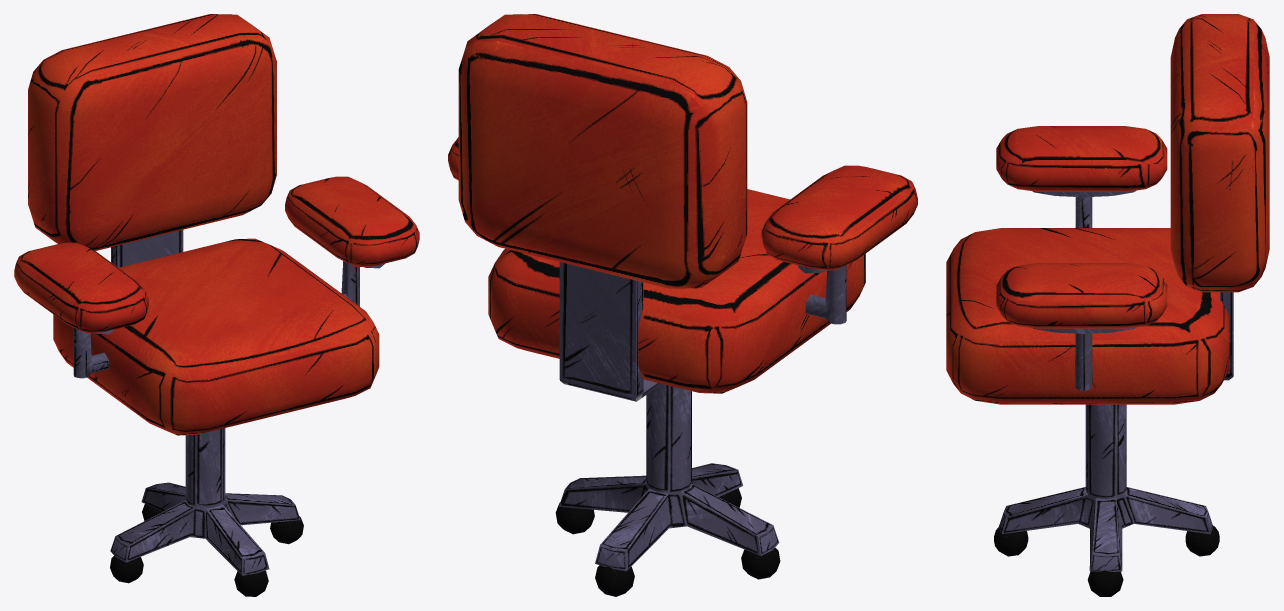
The model's file is Chair_E.glb.
The picture shows the model from 3 angles, left to right: view 1: azimuth 30°, elevation 25°; view 2: azimuth 150°, elevation 25°; view 3: azimuth 270°, elevation 25°; orthographic projection. The views are drawn at different scales.
Parts seen in each view (by area): view 1: Chair E; view 2: Chair E; view 3: Chair E.
Boxes of the visible parts, box(x1,y1,x2,y2) form: Chair E: box(14, 14, 419, 596); Chair E: box(448, 14, 917, 596); Chair E: box(946, 14, 1269, 596).
Size of the model in its own units: 4.3 by 5.67 by 3.32.
Materials: 1 (1 with a texture image).
